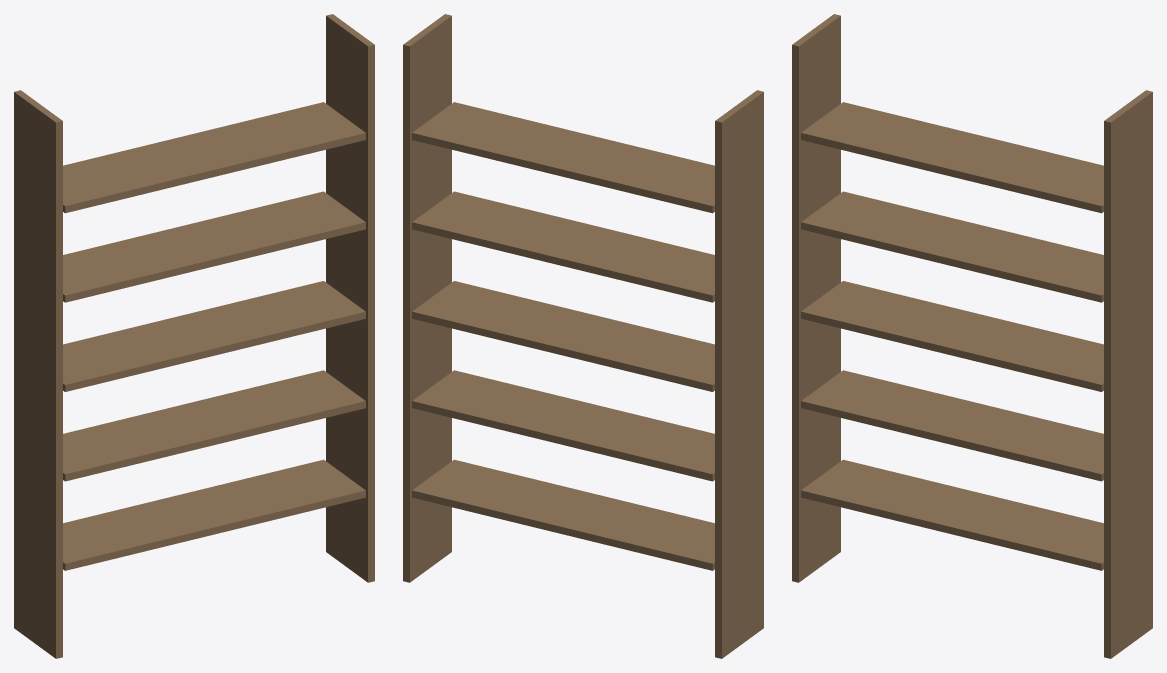
File: bookshelf_06.glb
3 views of the same model, side by side, from view 1: azimuth 30°, elevation 25°; view 2: azimuth 150°, elevation 25°; view 3: azimuth 330°, elevation 25° (orthographic).
Bounding box in the file's own units: 1.4 × 2.25 × 0.32.
